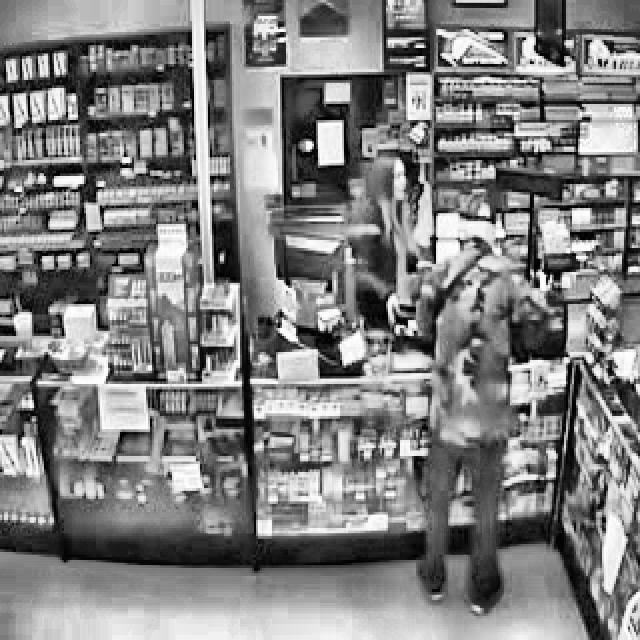robbery: (402, 188, 550, 620)
